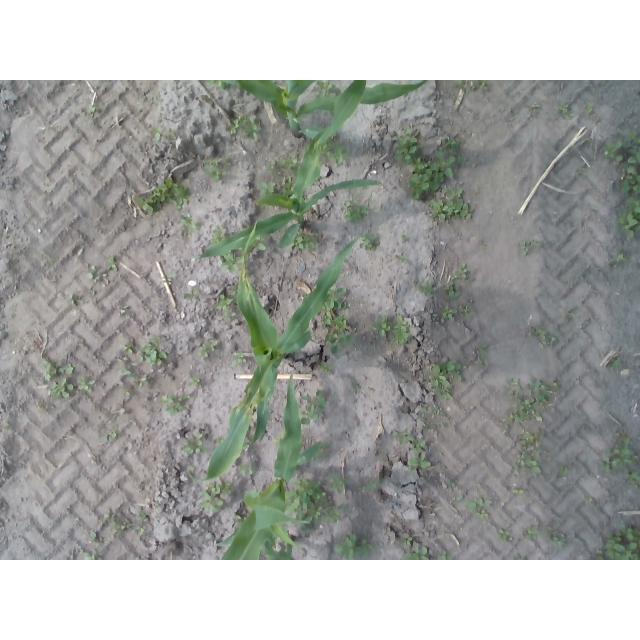Maize: (188, 220, 363, 484), (198, 81, 383, 258), (215, 372, 323, 560), (228, 81, 429, 140)
Weeds: (393, 126, 474, 221), (606, 133, 639, 236), (502, 378, 561, 435), (291, 479, 346, 526), (135, 177, 189, 214), (601, 436, 639, 486), (595, 524, 640, 559), (424, 361, 464, 400), (322, 313, 355, 359), (114, 356, 150, 397), (43, 358, 74, 399), (514, 431, 543, 474), (86, 255, 121, 289), (199, 481, 233, 516), (334, 534, 374, 560), (139, 334, 168, 366), (228, 114, 261, 142), (300, 389, 325, 425), (202, 155, 233, 182), (392, 429, 424, 455), (445, 262, 468, 298), (417, 407, 447, 429), (525, 325, 555, 347), (342, 198, 367, 222), (391, 312, 409, 345), (161, 392, 189, 413), (464, 498, 492, 519), (322, 143, 347, 166), (180, 432, 203, 456), (326, 472, 349, 495), (105, 508, 127, 532), (415, 280, 440, 299), (371, 315, 391, 337), (544, 526, 564, 548), (327, 289, 346, 312), (278, 150, 298, 171), (403, 546, 432, 560), (198, 338, 218, 358), (360, 233, 381, 252), (219, 254, 243, 270), (409, 455, 431, 472), (293, 235, 317, 250), (75, 377, 96, 394), (521, 240, 543, 256), (456, 81, 488, 92), (182, 215, 201, 233), (101, 424, 119, 442), (279, 176, 294, 197), (560, 99, 577, 117), (215, 294, 233, 311), (208, 226, 226, 242), (230, 349, 246, 367), (315, 81, 333, 96), (523, 526, 541, 541), (238, 464, 255, 479), (474, 342, 486, 363), (362, 479, 383, 491), (68, 293, 84, 308), (259, 182, 277, 195), (443, 304, 457, 320), (82, 549, 102, 560), (394, 254, 410, 267), (254, 235, 267, 251), (609, 254, 626, 266), (37, 400, 54, 412), (530, 101, 543, 116), (151, 124, 163, 140), (184, 290, 200, 302), (130, 525, 146, 536), (396, 537, 413, 547), (223, 311, 237, 323), (445, 475, 456, 490), (557, 465, 568, 480), (188, 376, 204, 386), (424, 423, 445, 430), (164, 128, 176, 140), (44, 256, 56, 268), (497, 528, 509, 540), (438, 550, 452, 560), (207, 80, 230, 86), (459, 306, 470, 318), (265, 158, 276, 170), (609, 359, 621, 370), (123, 340, 133, 353), (319, 362, 329, 374), (585, 102, 595, 114), (116, 305, 128, 315), (567, 308, 578, 318), (228, 282, 237, 294), (136, 512, 148, 521), (351, 380, 361, 390), (509, 107, 519, 117), (4, 419, 13, 430), (115, 408, 126, 417), (512, 553, 526, 560), (431, 406, 443, 414), (163, 274, 173, 283), (577, 163, 585, 174), (511, 490, 526, 495), (90, 532, 99, 540), (153, 92, 160, 101), (88, 105, 96, 112), (402, 235, 409, 242), (454, 496, 463, 501), (589, 498, 594, 503)
